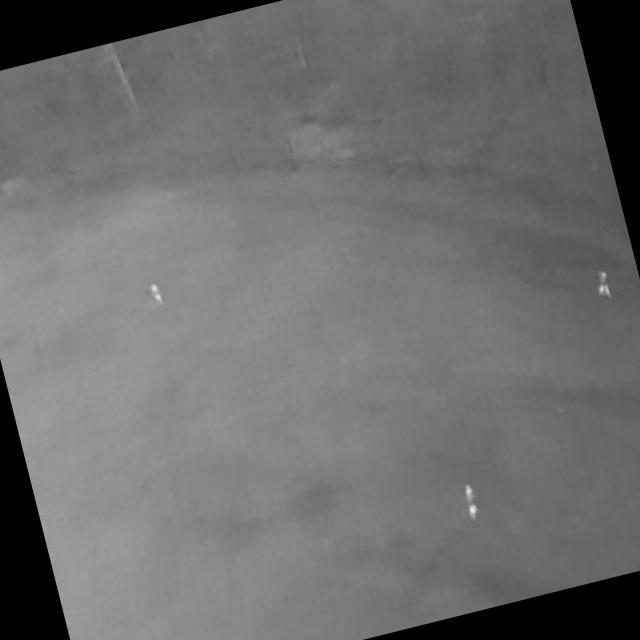person: (459, 484, 483, 526), (592, 267, 615, 301), (148, 281, 165, 309)
